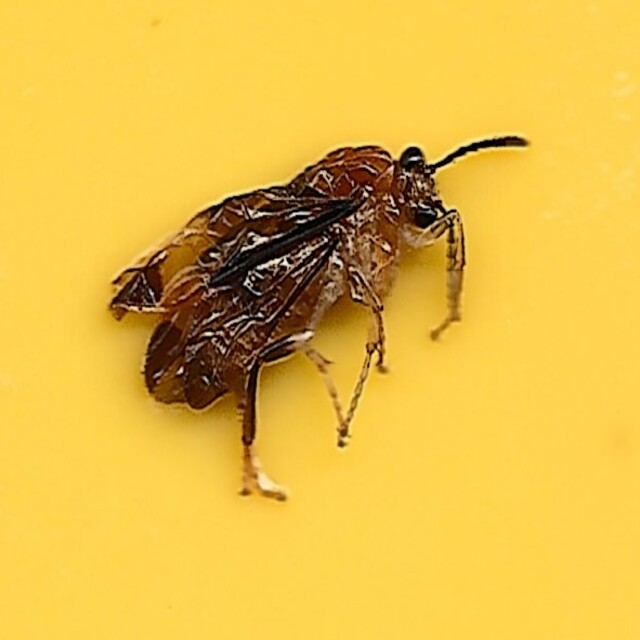Hymenoptera: (108, 136, 532, 504)
